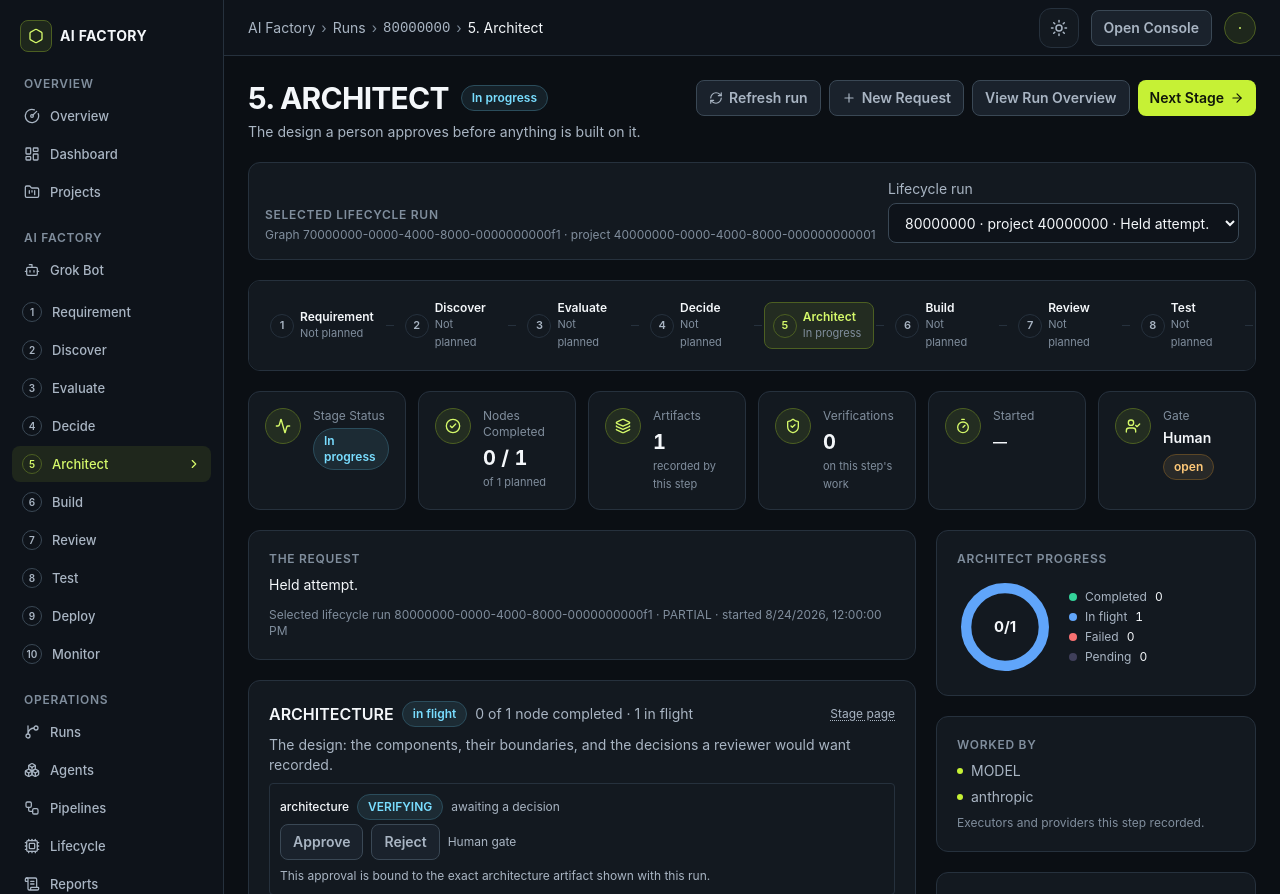
Test: a factory step page › keeps a recorded gate approval Not Connected when no worker was woken
Click the button "Approve" at x=322, y=842, box [280,824,363,860]
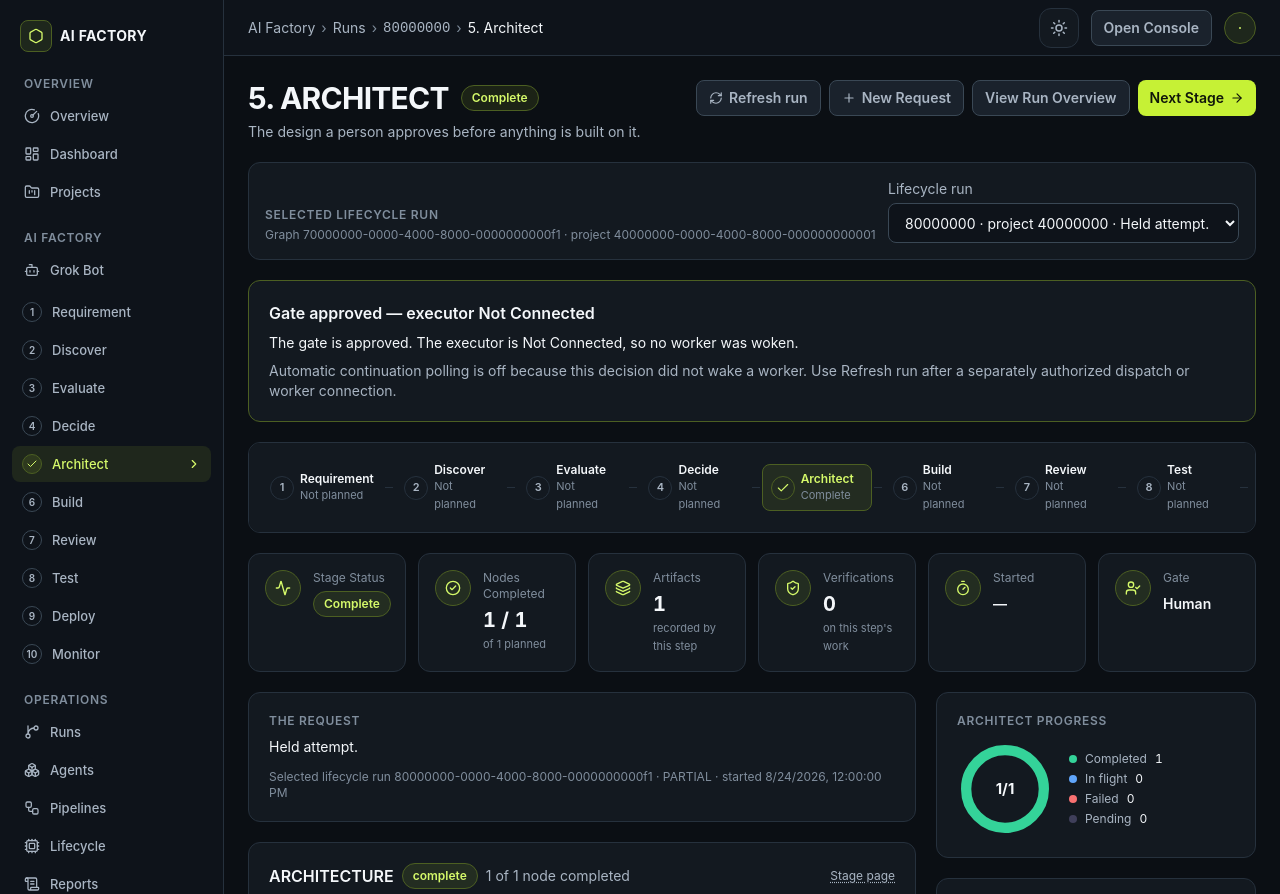
Expected: the heading "Gate approved — executor Not Connected" is shown, [269,303,595,323]
Expected: the text "The gate is approved. The executor is Not Connected, so no worker was woken." is shown, [269,334,798,351]
Expected: the text "Automatic continuation polling is off" is shown, [269,362,1190,399]
